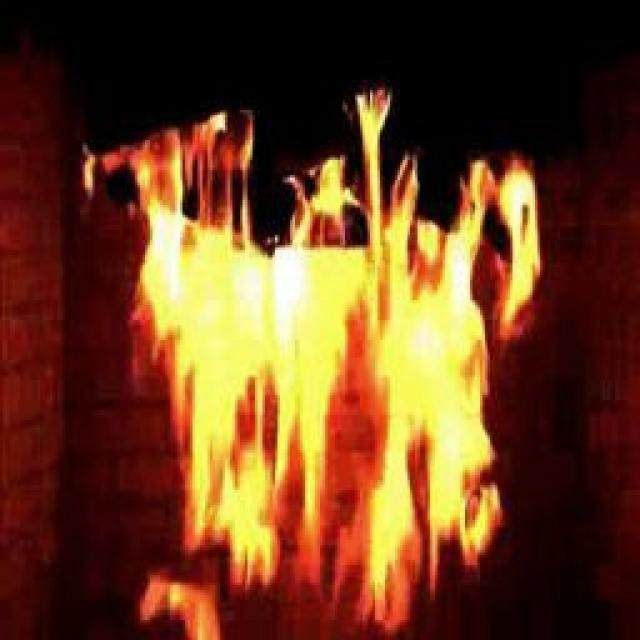fire: (88, 89, 560, 638)
